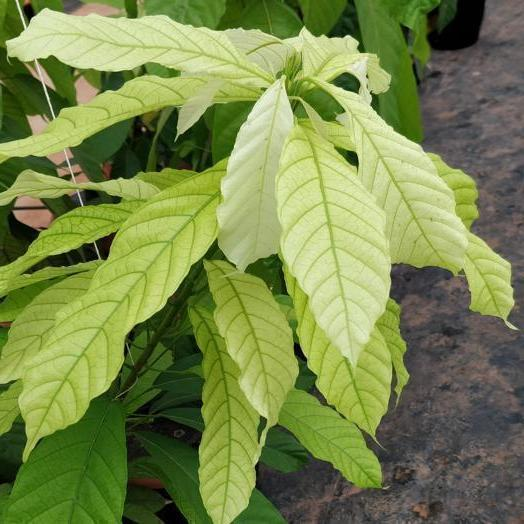Healthy Leaf: (5, 397, 126, 523)
Iron: (20, 168, 224, 459), (315, 80, 465, 271), (276, 124, 390, 364), (7, 9, 269, 86), (189, 301, 259, 523), (204, 260, 297, 426), (217, 76, 293, 270)
